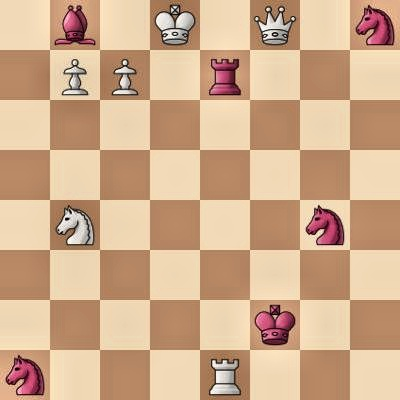black-bishop: (50, 0, 100, 50)
black-king: (250, 300, 300, 350)
black-knight: (350, 0, 400, 50), (300, 200, 350, 250), (0, 350, 50, 400)
black-rook: (200, 50, 250, 100)
white-king: (150, 0, 200, 50)
white-knight: (50, 200, 100, 250)
white-pawn: (50, 50, 100, 100), (100, 50, 150, 100)
white-queen: (250, 0, 300, 50)
white-rook: (200, 350, 250, 400)
